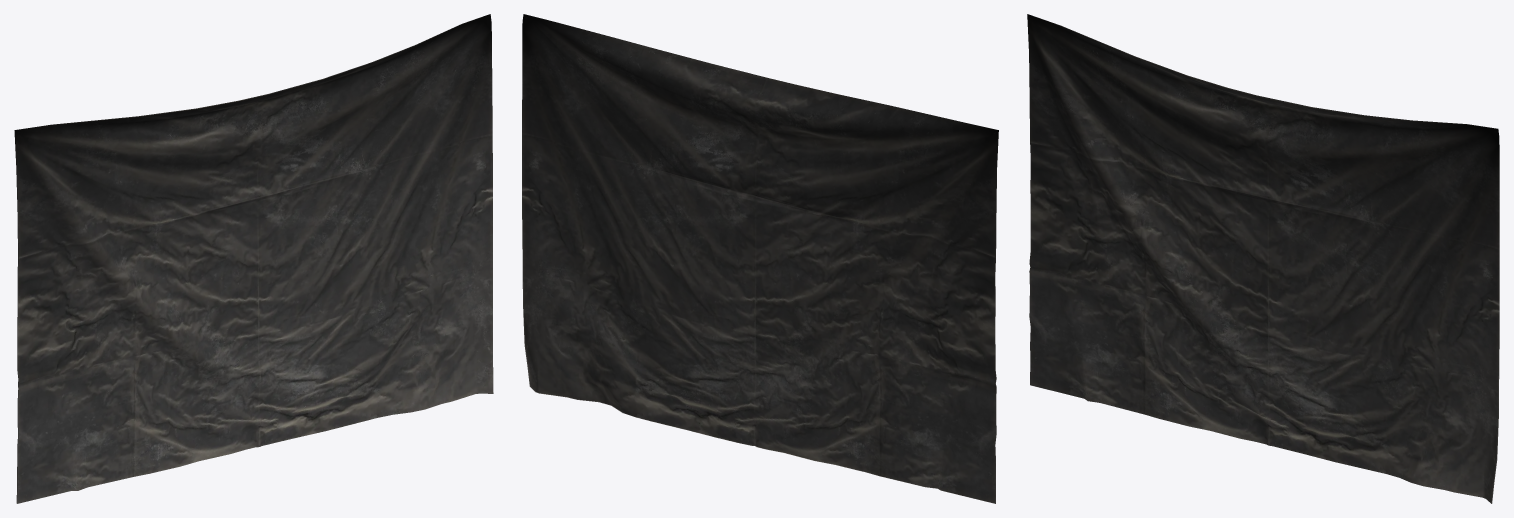
File: lona2.glb
3 renders of one model, left to right at view 1: azimuth 30°, elevation 25°; view 2: azimuth 150°, elevation 25°; view 3: azimuth 330°, elevation 25°, orthographic.
Visible parts, largest first — view 1: models\props\construction\tarp_hanging_1a.vmdl_c.tarp_hangin; view 2: models\props\construction\tarp_hanging_1a.vmdl_c.tarp_hangin; view 3: models\props\construction\tarp_hanging_1a.vmdl_c.tarp_hangin.
Boxes of the visible parts, x1,y1,x2,y2 form: models\props\construction\tarp_hanging_1a.vmdl_c.tarp_hangin: (14, 14, 493, 503); models\props\construction\tarp_hanging_1a.vmdl_c.tarp_hangin: (522, 14, 998, 503); models\props\construction\tarp_hanging_1a.vmdl_c.tarp_hangin: (1027, 14, 1499, 503).
Bounding box in the file's own units: 3.26 × 2.45 × 0.1419.
Materials: 1 (1 with a texture image).
